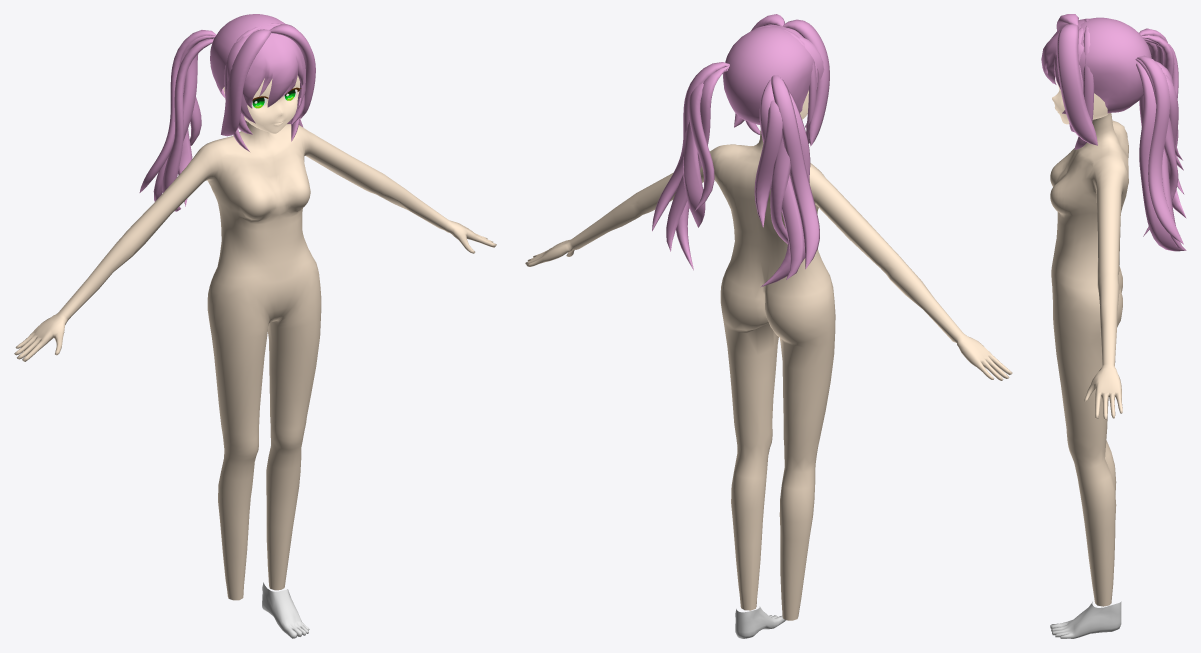
Rendered from mccc.gltf.
3 renders of one model, left to right at view 1: azimuth 30°, elevation 25°; view 2: azimuth 150°, elevation 25°; view 3: azimuth 270°, elevation 25°, orthographic.
Visible parts, largest first — view 1: Cylinder.003, NurbsPath.007, Plane.002, NurbsPath.001, Sphere, Circle, Cube.004, NurbsPath; view 2: Cylinder.003, NurbsPath.007, Sphere, NurbsPath.001, Cube.004, NurbsPath; view 3: Cylinder.003, NurbsPath.007, Sphere, NurbsPath.001, Cube.004, NurbsPath, Plane.002, Circle.
Boxes of the visible parts, x1,y1,x2,y2 form: Cylinder.003: (14,121,496,600); NurbsPath.007: (139,30,303,211); Plane.002: (226,26,305,123); NurbsPath.001: (221,24,315,136); Sphere: (210,14,285,97); Circle: (223,75,299,133); Cube.004: (262,582,309,638); NurbsPath: (224,23,304,151); Cylinder.003: (525,130,1012,620); NurbsPath.007: (652,62,819,286); Sphere: (723,26,815,124); NurbsPath.001: (734,14,829,146); Cube.004: (735,606,785,638); NurbsPath: (745,25,817,143); Cylinder.003: (1050,113,1128,606); NurbsPath.007: (1135,28,1186,251); Sphere: (1079,17,1151,113); NurbsPath.001: (1056,14,1097,145); Cube.004: (1050,601,1121,638); NurbsPath: (1069,18,1094,149); Plane.002: (1041,19,1084,113); Circle: (1052,80,1108,124).
Bounding box in the file's own units: 1.24 × 1.51 × 0.3296.
Materials: 7 (1 with a texture image).
